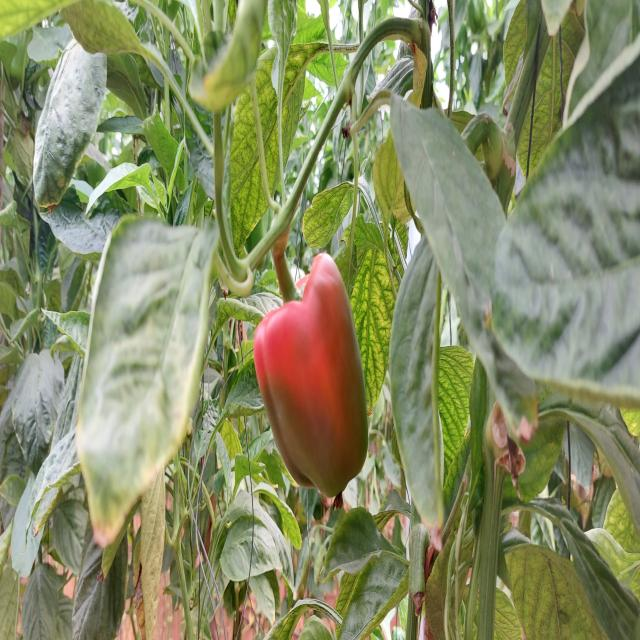Red-Ready-to-Harvest: (250, 267, 385, 528), (248, 270, 381, 504)
